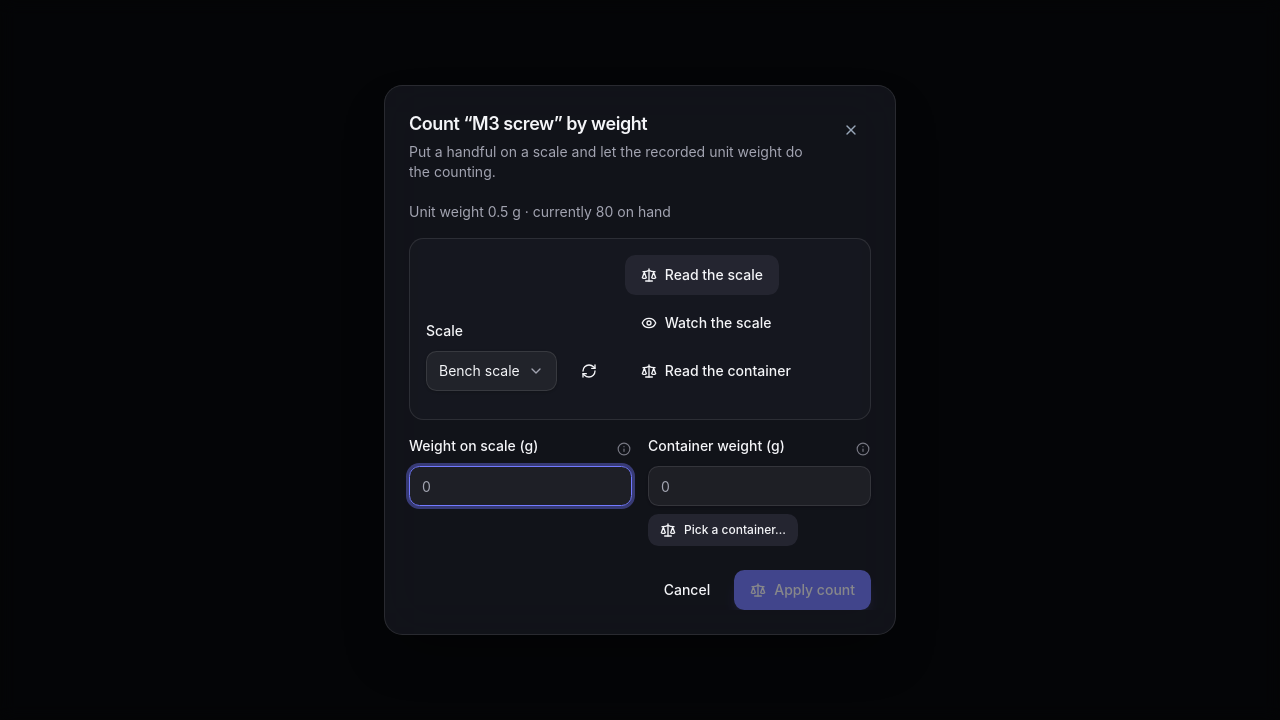
Test case: ScaleReadPanel (issue #122) › converts a kilogram reading into the user’s configured unit
Click the button with test id "scale-read" at (702, 275), box [625,255,779,295]
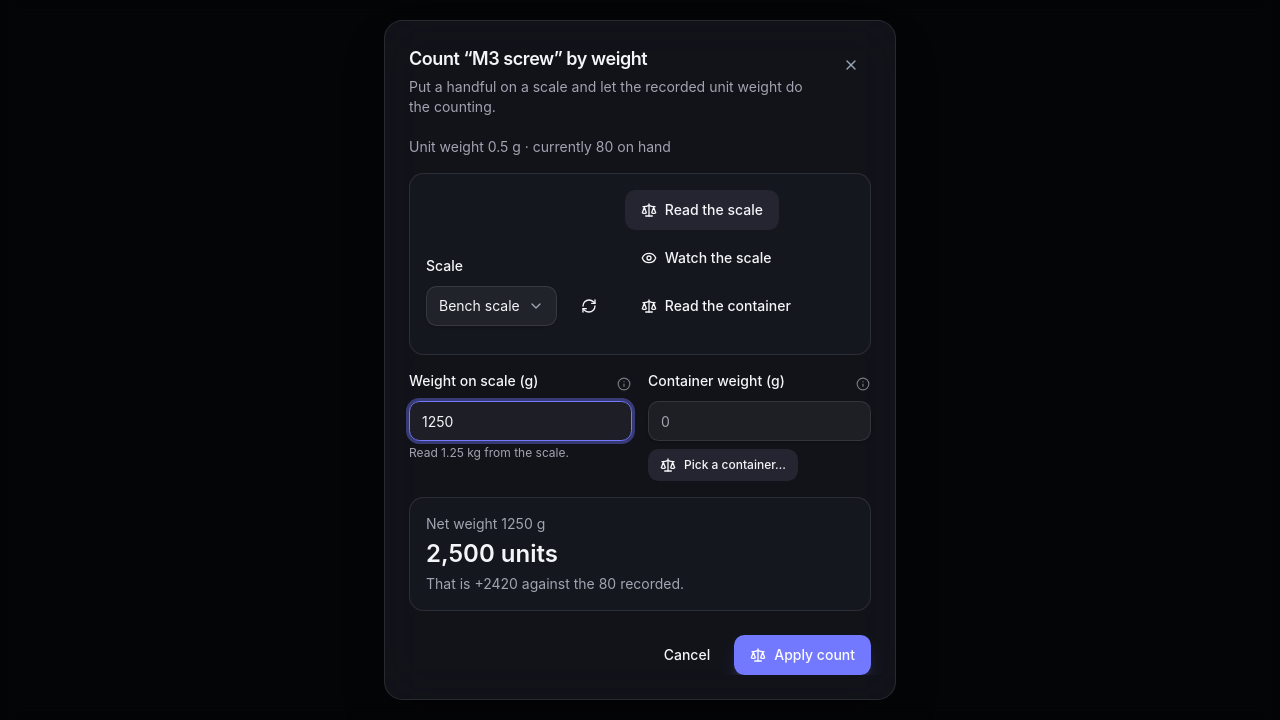
Expected: the field labelled "Weight on scale (g) Read 1.25 kg from the scale." holds "1250", [409,401,632,441]
Expected: the text with test id "weigh-count-scale-source" shows "1.25 kg", [409,445,569,460]
